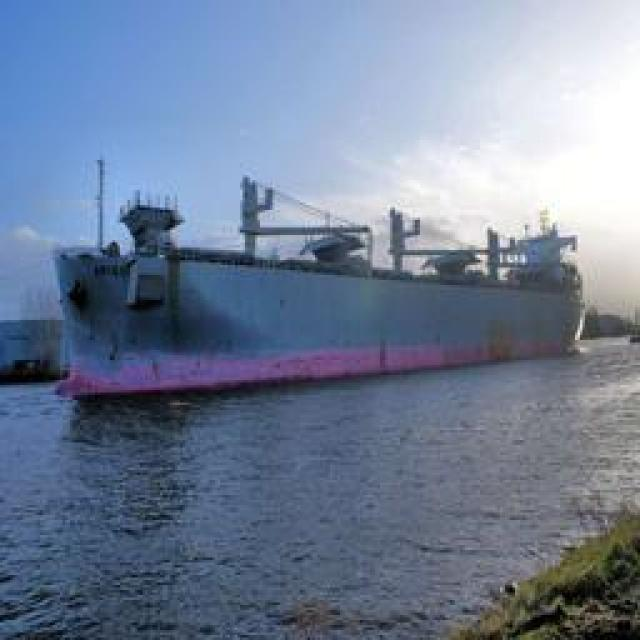CIV_Ship: (49, 184, 582, 398)
